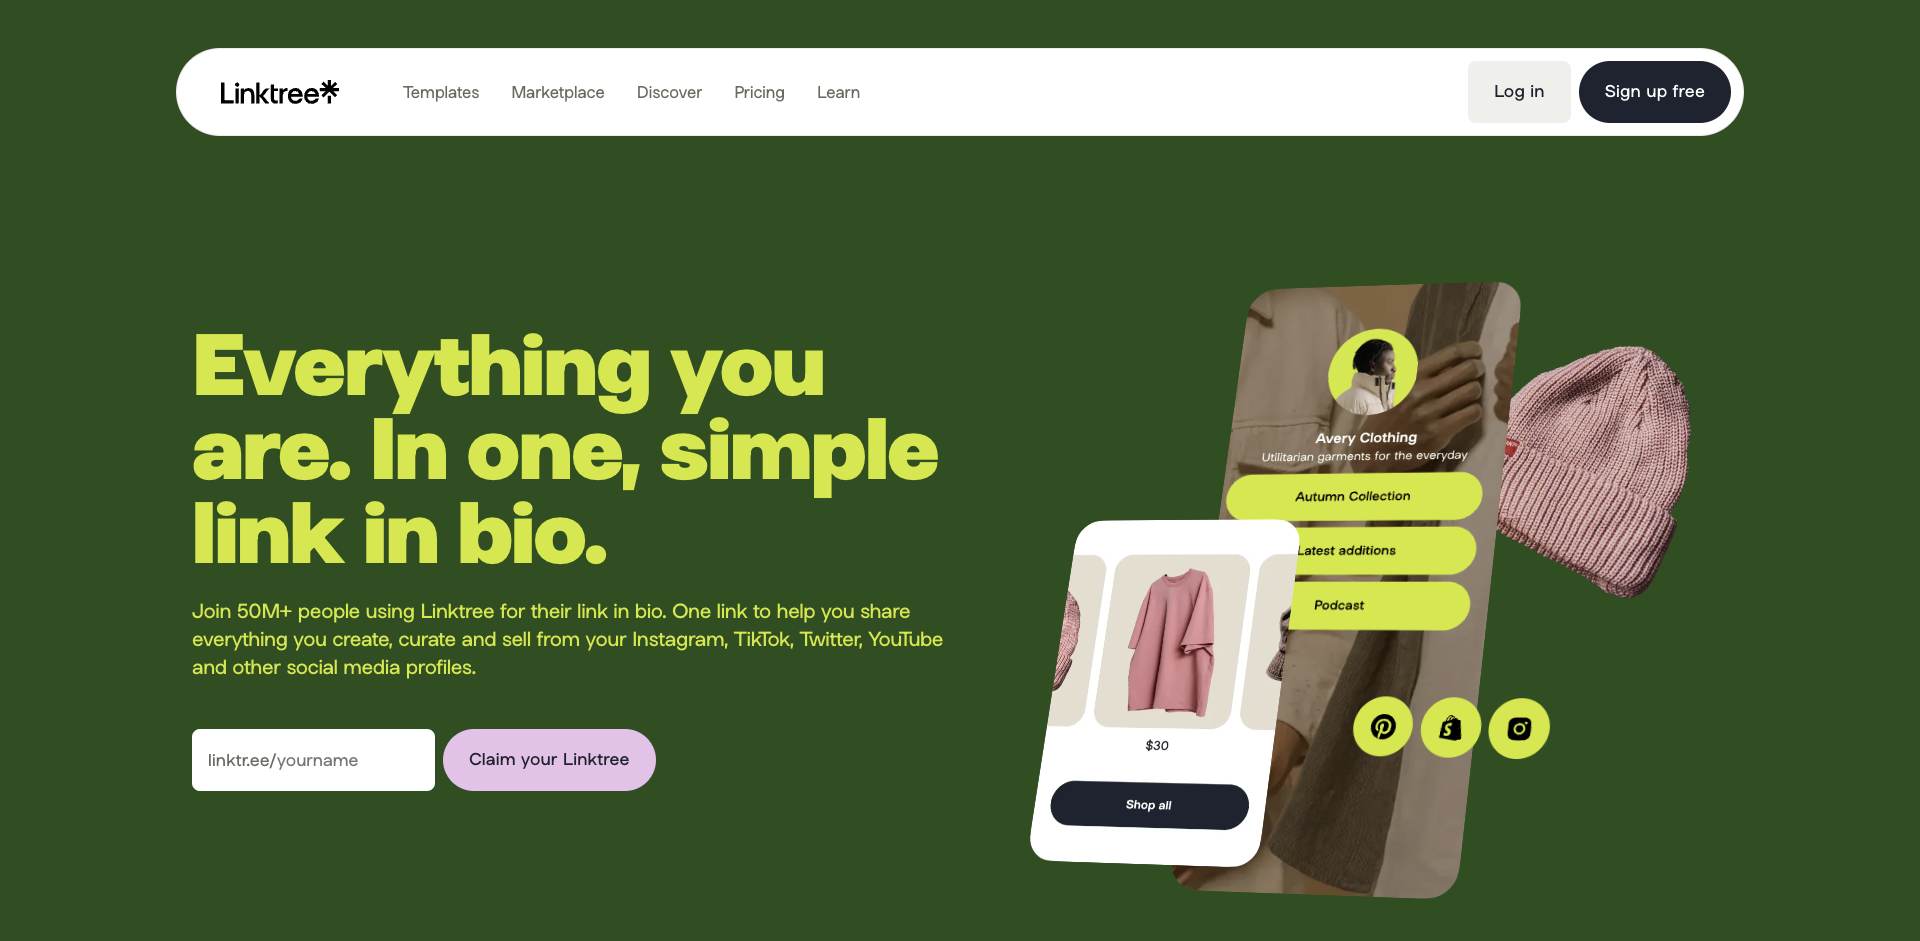button: (443, 729, 655, 792)
input: (277, 749, 419, 772)
label: (208, 749, 277, 771)
link: (1578, 61, 1731, 123), (1468, 61, 1571, 123), (496, 70, 621, 114), (387, 70, 496, 114), (621, 70, 719, 114), (220, 80, 387, 104), (719, 70, 801, 114), (801, 70, 877, 114)
